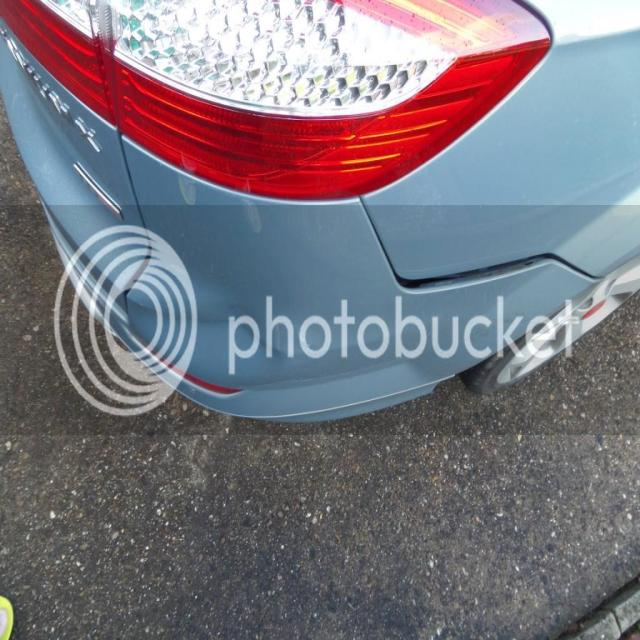misalignment: (397, 252, 603, 295)
